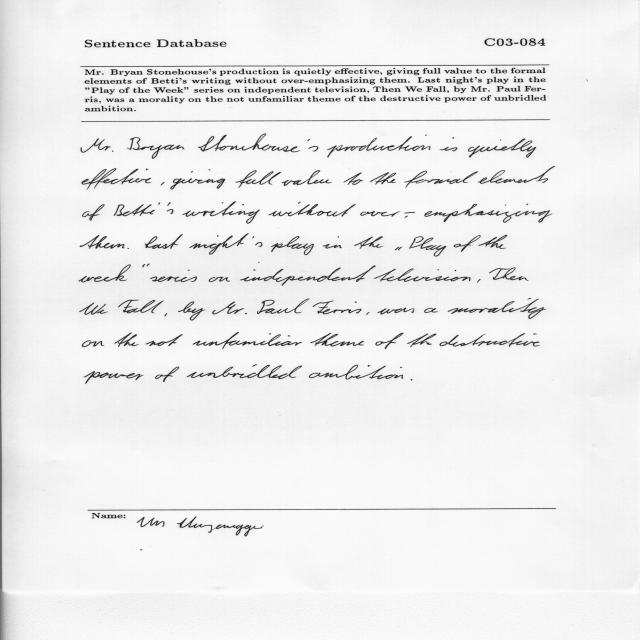word: (361, 204, 553, 223), (240, 262, 376, 286), (327, 135, 430, 158), (170, 170, 281, 190), (198, 134, 318, 152), (448, 299, 547, 319), (193, 332, 302, 349), (182, 202, 260, 224), (257, 299, 362, 315), (187, 365, 302, 379), (189, 234, 263, 255), (82, 169, 151, 190), (439, 333, 540, 347), (309, 365, 403, 380), (374, 268, 471, 282), (268, 202, 356, 217), (478, 167, 555, 184), (468, 139, 536, 158), (404, 171, 478, 188), (127, 137, 184, 159), (79, 264, 145, 282), (114, 202, 173, 216), (271, 236, 314, 255), (282, 170, 332, 186), (84, 371, 144, 384), (410, 237, 447, 257), (310, 333, 364, 346), (80, 235, 124, 249), (119, 300, 164, 313), (145, 234, 183, 249), (150, 270, 197, 282), (490, 267, 529, 281), (178, 302, 205, 321), (81, 138, 114, 153), (454, 235, 481, 252), (212, 302, 247, 315), (376, 333, 404, 349), (146, 334, 183, 346), (479, 235, 508, 249), (354, 236, 383, 249), (79, 302, 108, 315), (407, 334, 436, 347), (114, 332, 139, 347), (83, 204, 105, 221), (155, 367, 179, 382), (370, 172, 396, 185), (440, 137, 458, 152), (378, 308, 415, 315), (344, 172, 363, 185), (323, 237, 342, 249), (83, 340, 105, 347), (209, 277, 230, 282), (424, 308, 438, 313), (395, 247, 402, 251), (161, 182, 165, 186), (477, 279, 481, 283), (165, 313, 168, 316), (367, 312, 370, 315), (147, 264, 150, 266), (527, 298, 531, 299), (127, 248, 129, 249), (411, 379, 412, 381)
